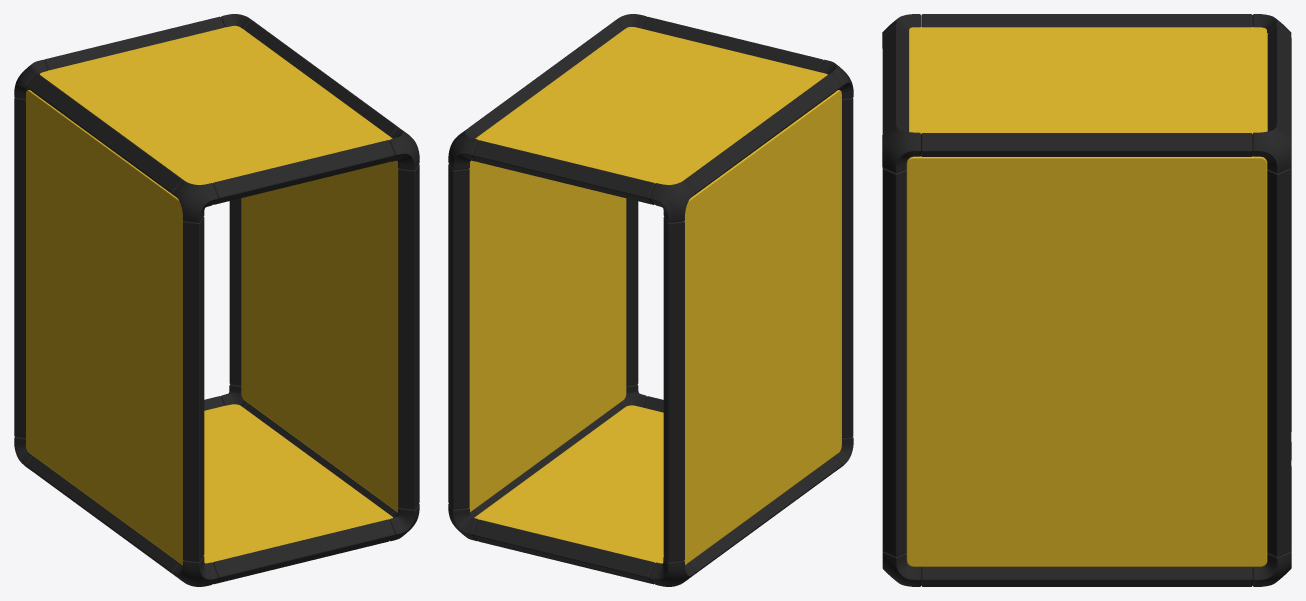
3 views of the same model, side by side, from view 1: azimuth 30°, elevation 25°; view 2: azimuth 150°, elevation 25°; view 3: azimuth 270°, elevation 25° (orthographic). The views are drawn at different scales.
Parts seen in each view (by area): view 1: 229x329x420; view 2: 229x329x420; view 3: 229x329x420.
Boxes of the visible parts, x1,y1,x2,y2 form: 229x329x420: (14, 14, 419, 586); 229x329x420: (448, 14, 853, 586); 229x329x420: (882, 14, 1291, 586).
Bounding box in the file's own units: 0.3067 × 0.4976 × 0.4063.
